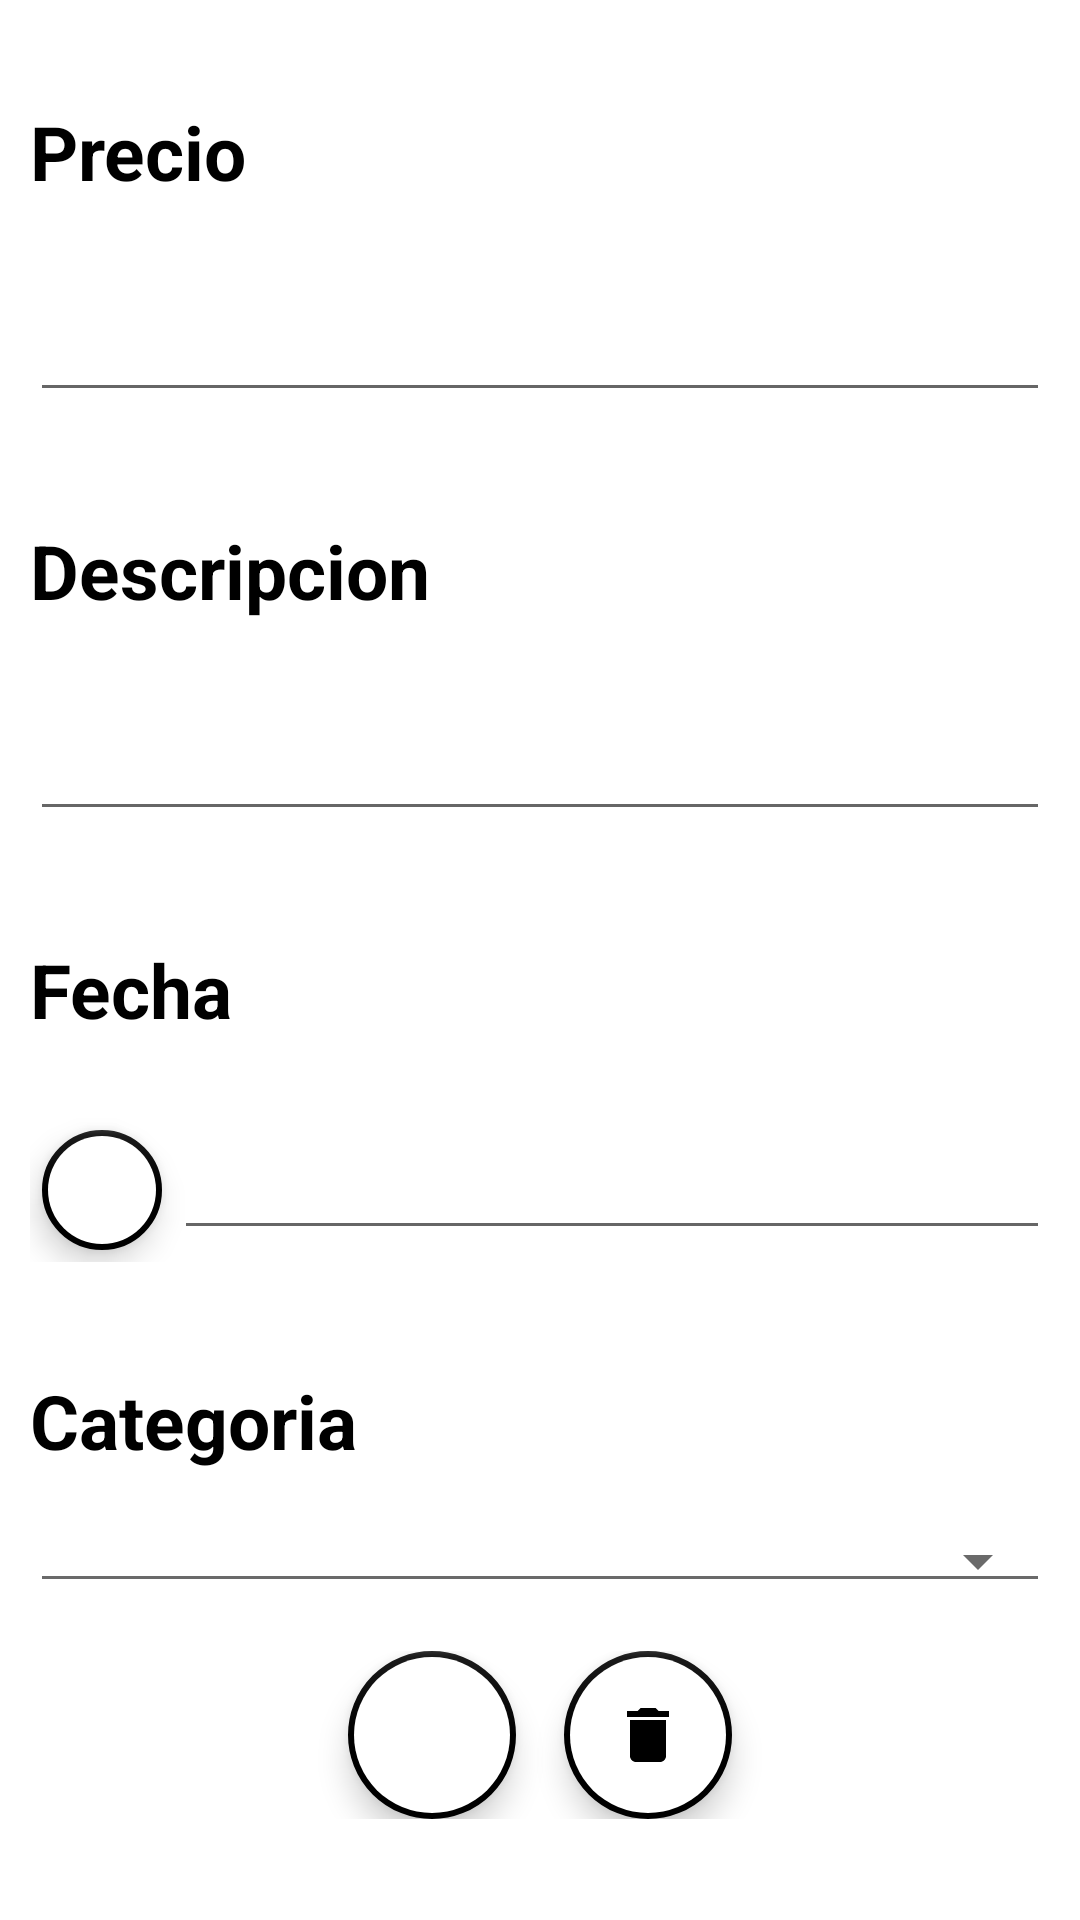

Named icons in this screenshot (1080px×1920px) and their centers, [x,y]:
Deletes the expense: [648,1735]
